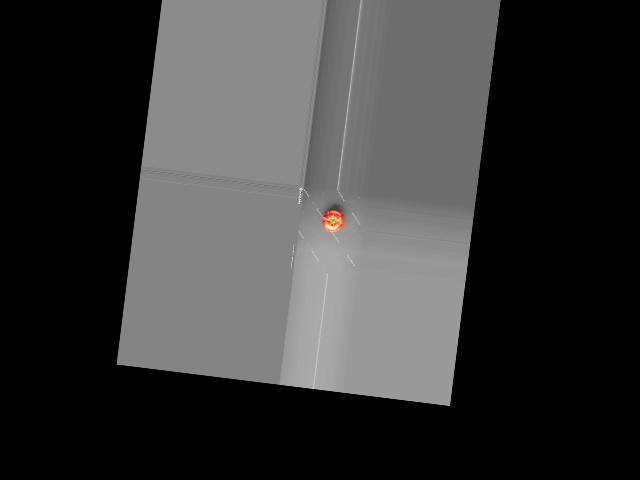tomato: (320, 208, 345, 234)
